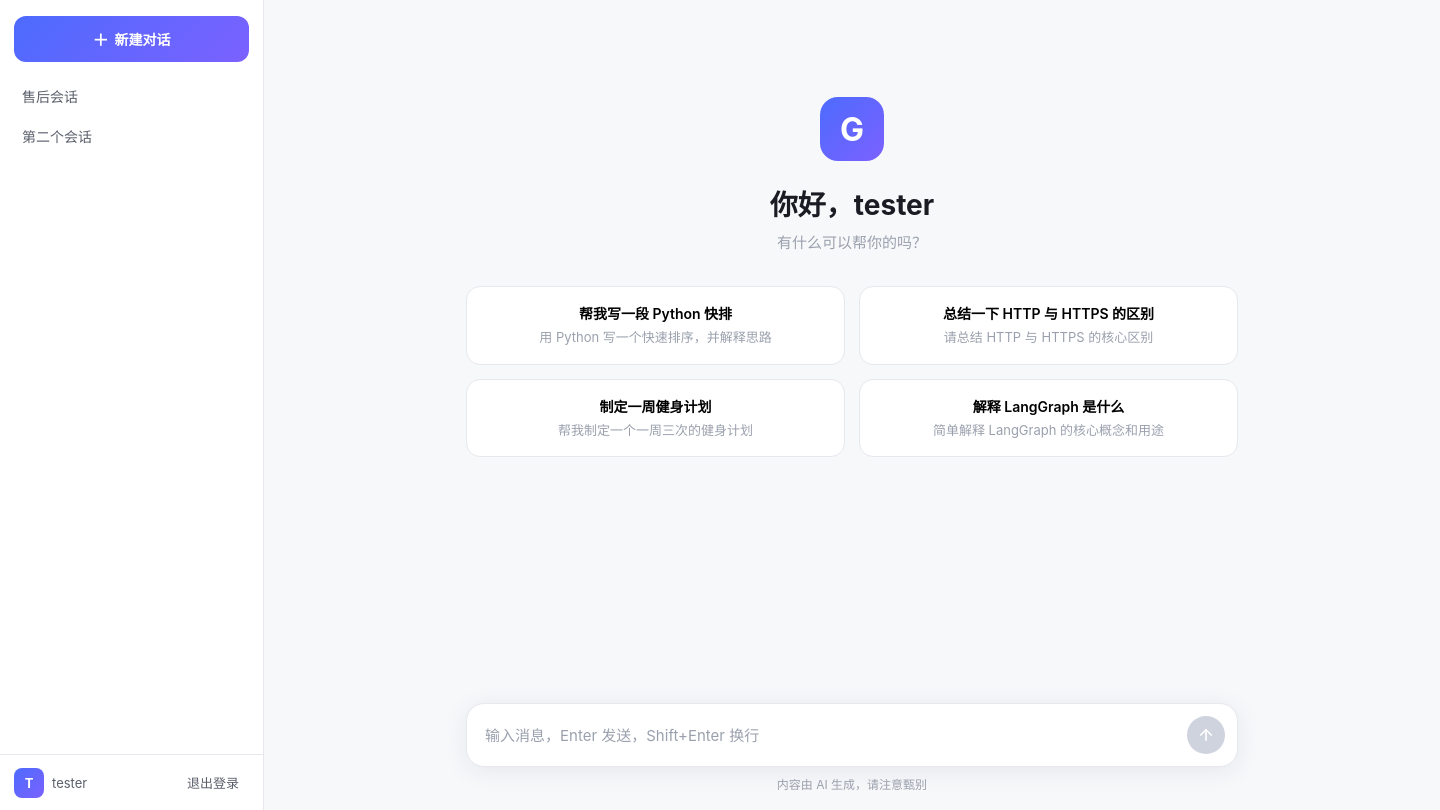
ChatPage 缺口提示 3 秒自动消失（fake timers，11.4） › N3 切换会话：提示立即清空、timer 立即清除，推进时钟不再出现
Click the text "售后会话" at [50, 96], box [22,88,78,105]
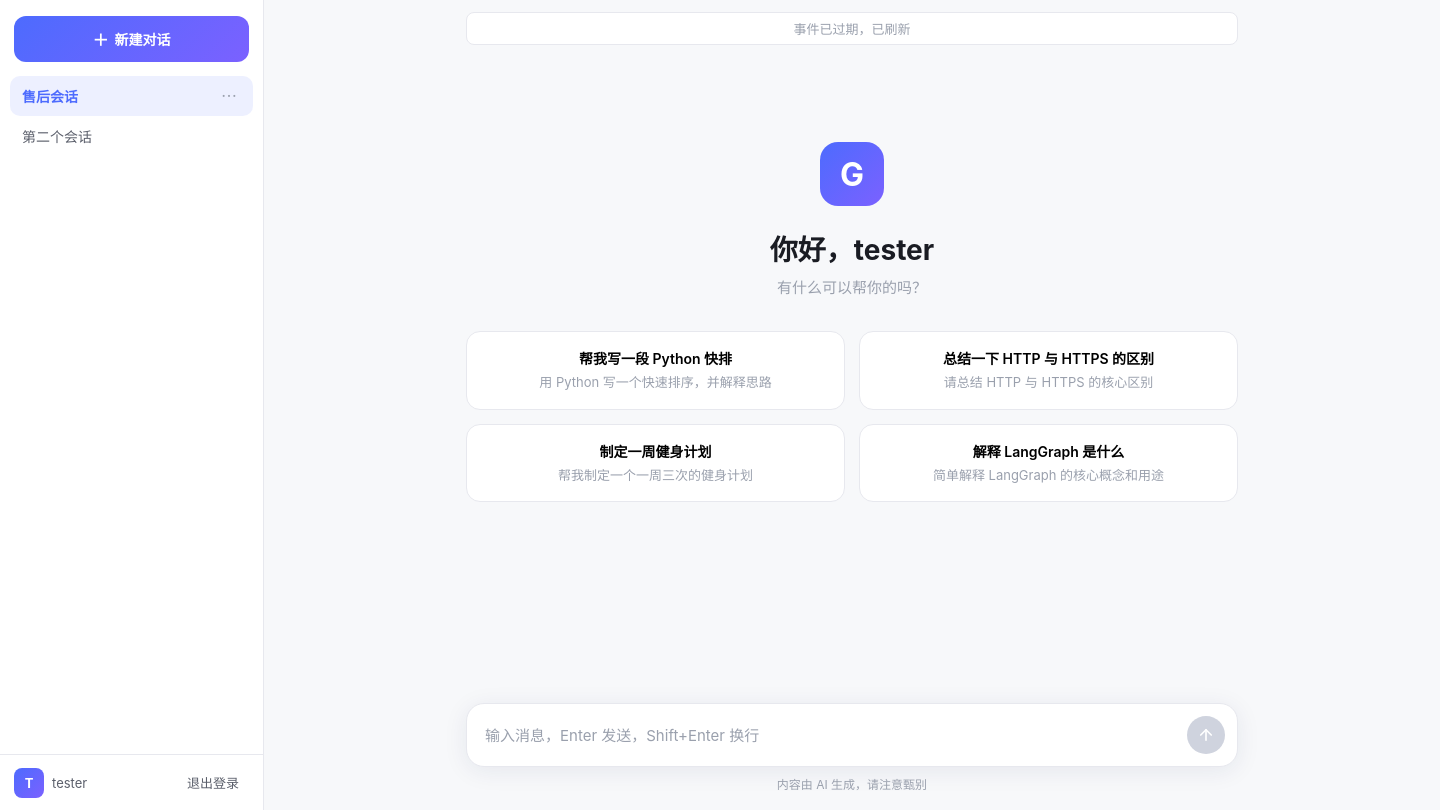
expect the message "事件已过期，已刷新" is shown: met, box [466,12,1238,45]
Click the text "第二个会话" at [57, 136], box [22,128,92,145]
Wait 10000 ms
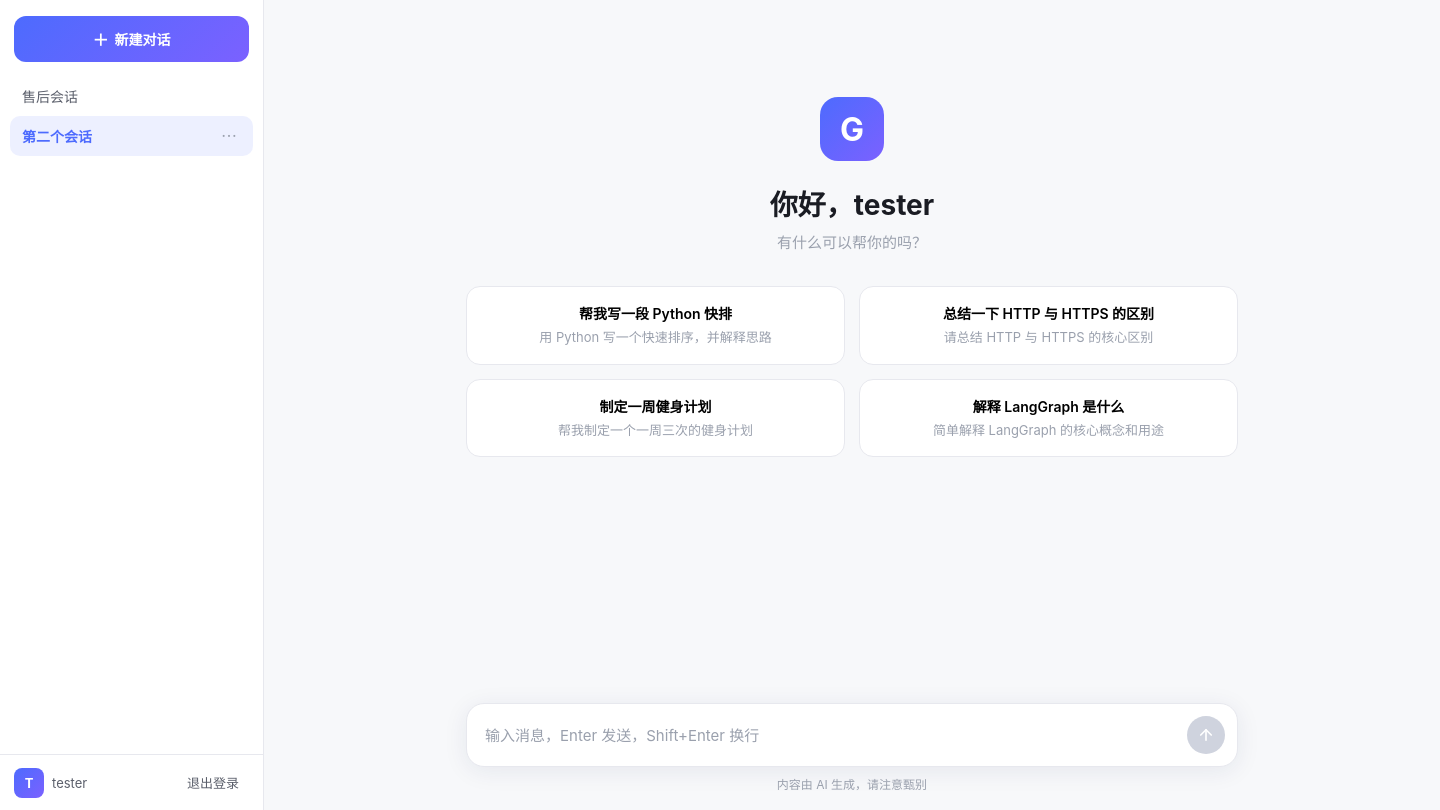
expect the message "事件已过期，已刷新" is gone: met
